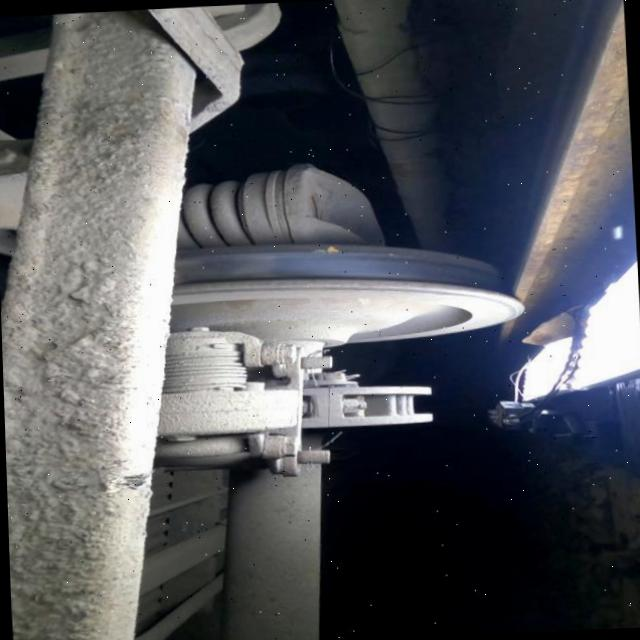Cracks-Scratches: (309, 244, 344, 252)
Shelling: (177, 250, 273, 283)
Wheel: (171, 242, 524, 344)
